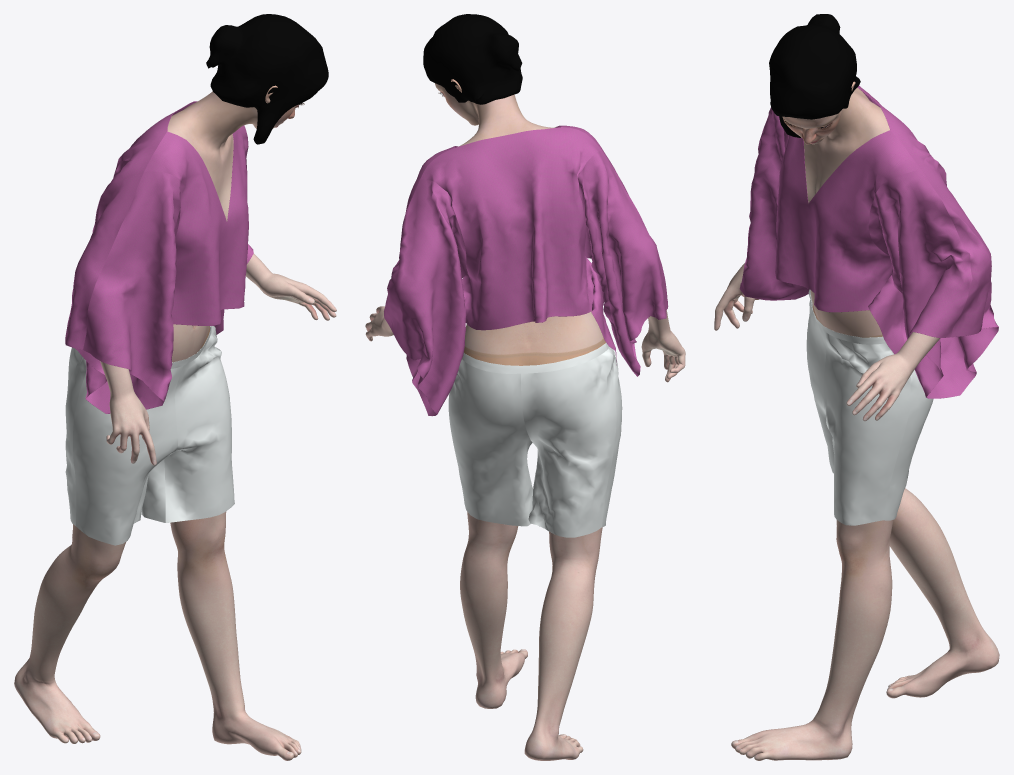
The model's file is Custom_View_4__random.obj.
3 views of the same model, side by side, from view 1: azimuth 30°, elevation 25°; view 2: azimuth 150°, elevation 25°; view 3: azimuth 270°, elevation 25° (orthographic). The views are drawn at different scales.
Bounding box in the file's own units: 712 × 1681 × 585.
